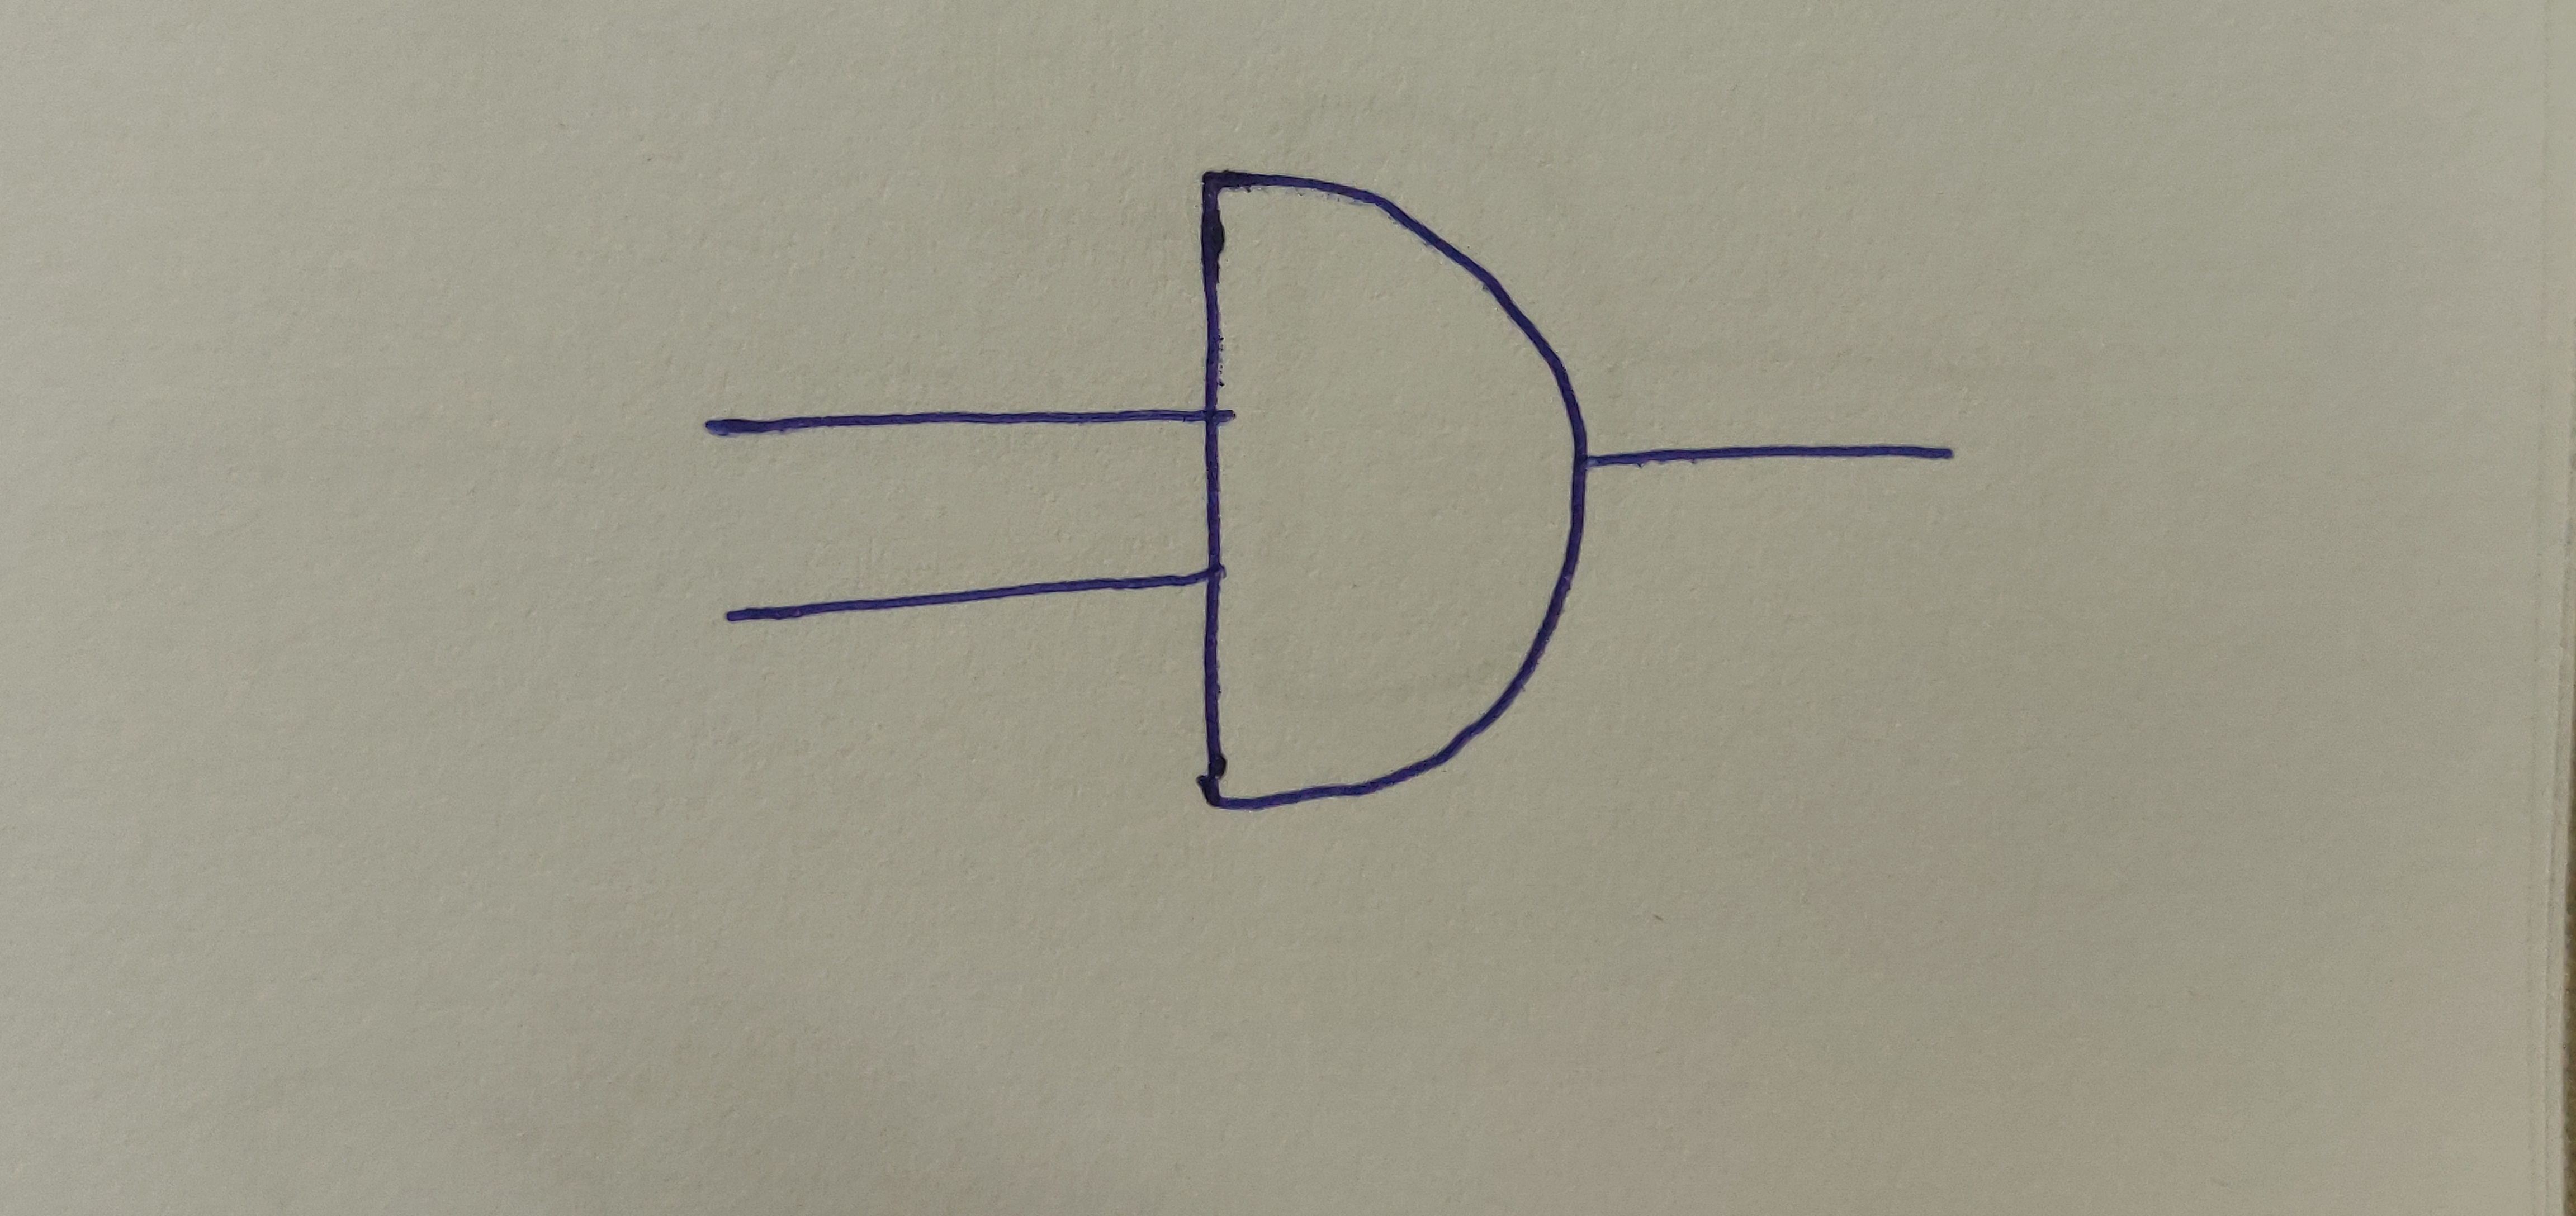and: (1189, 163, 1590, 813)
